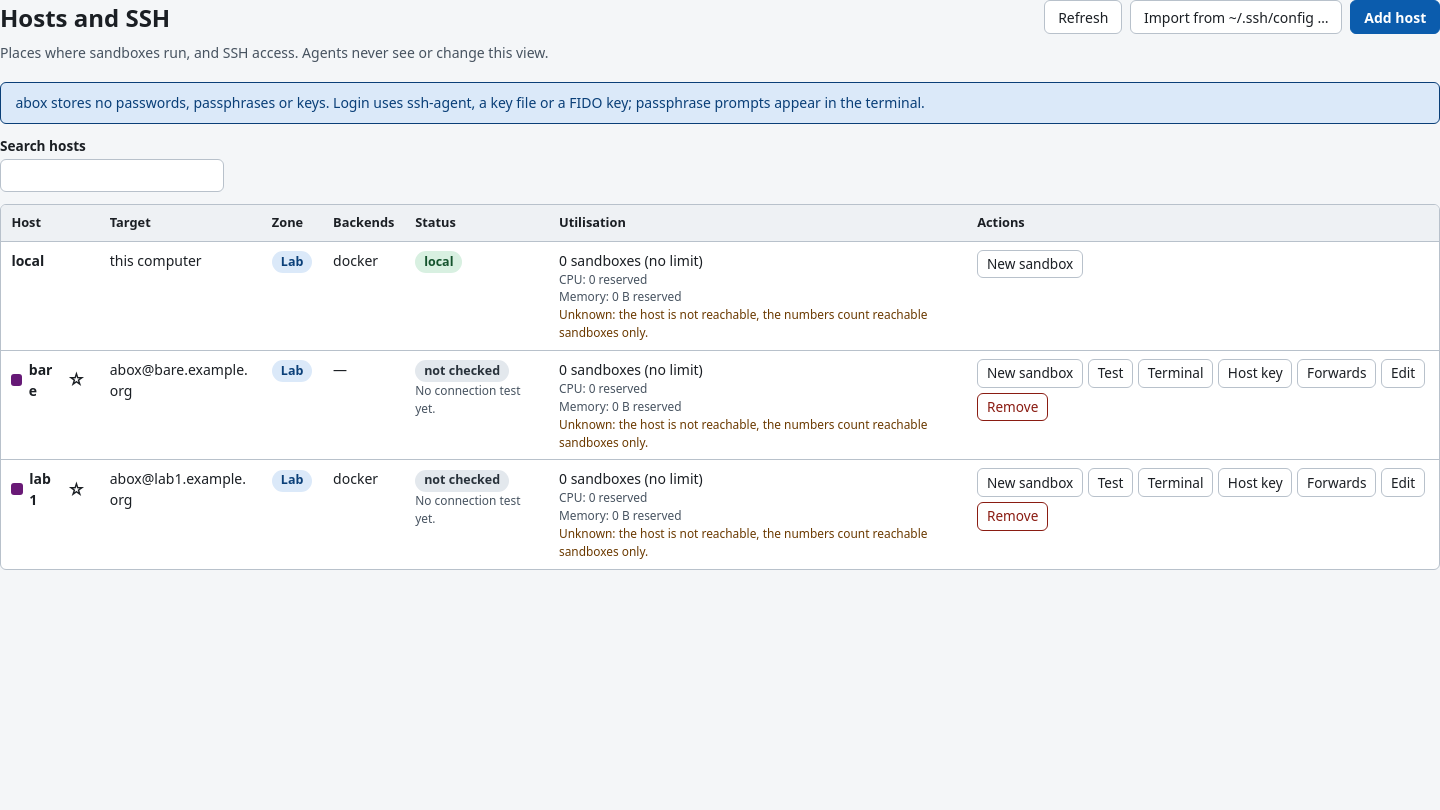
Scenario: Hosts view: new sandbox on a host › offers the action for every host and opens the wizard with that host preselected
Expected: the button "New sandbox" in the row of "this computer" is shown, [977,250,1083,278]
Click the button "New sandbox" in the row of "abox@lab1.example.org": [1030, 483] box [977,468,1083,497]
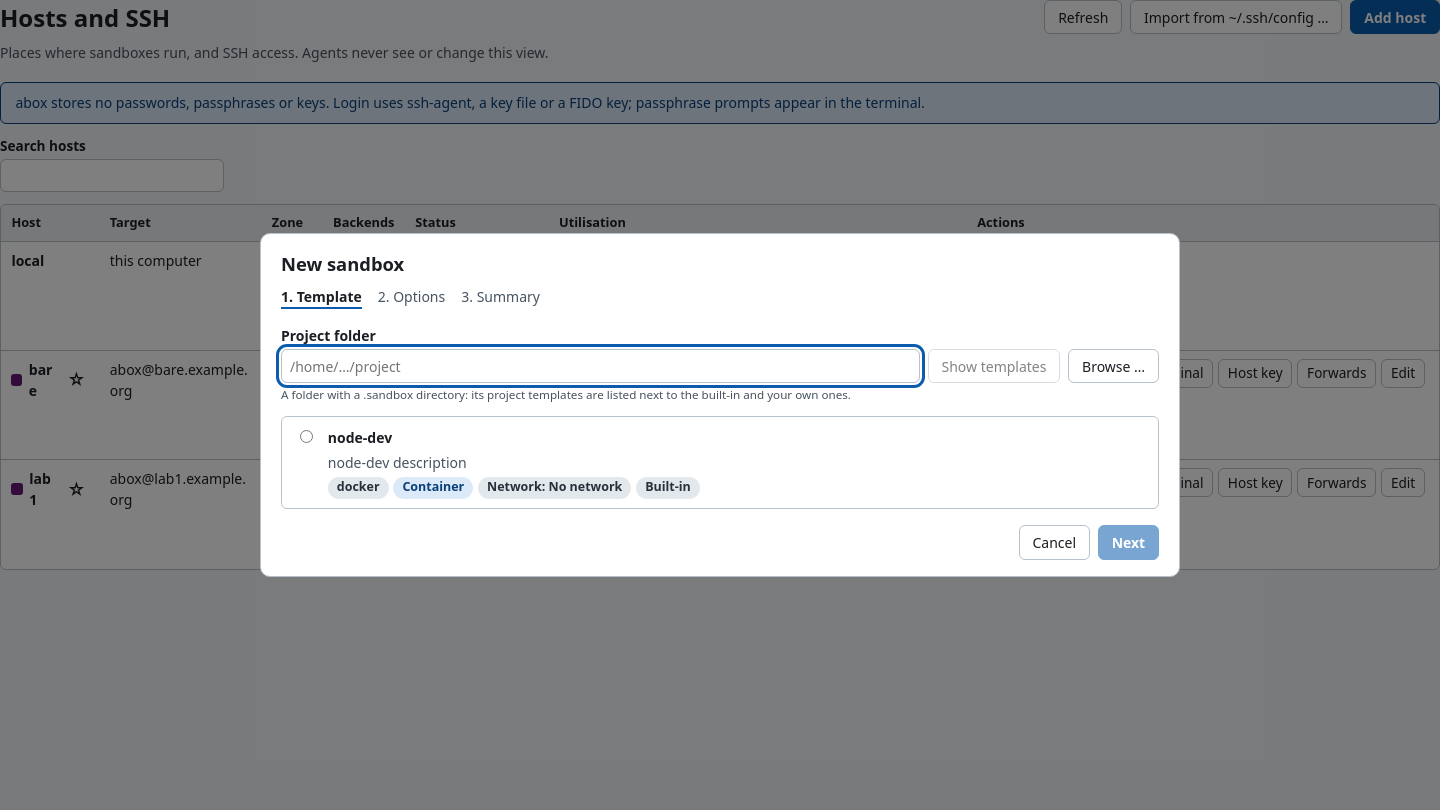
Result: the dialog "New sandbox" is shown at [260,233,1180,577]
Click the radio button labelled "node-dev": [306, 436] box [300,430,313,443]
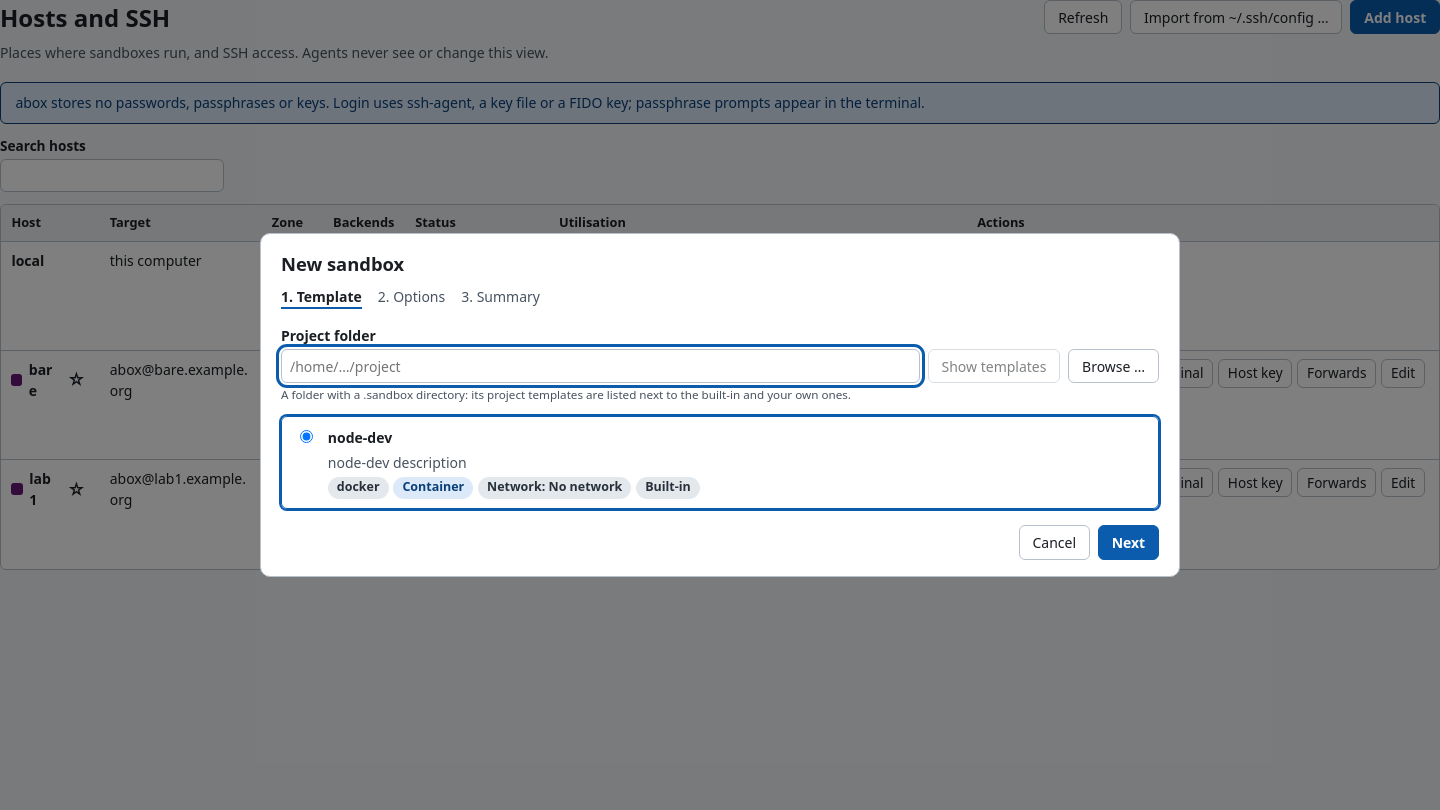
Click the button "Next": [1128, 543] box [1098,526,1159,560]
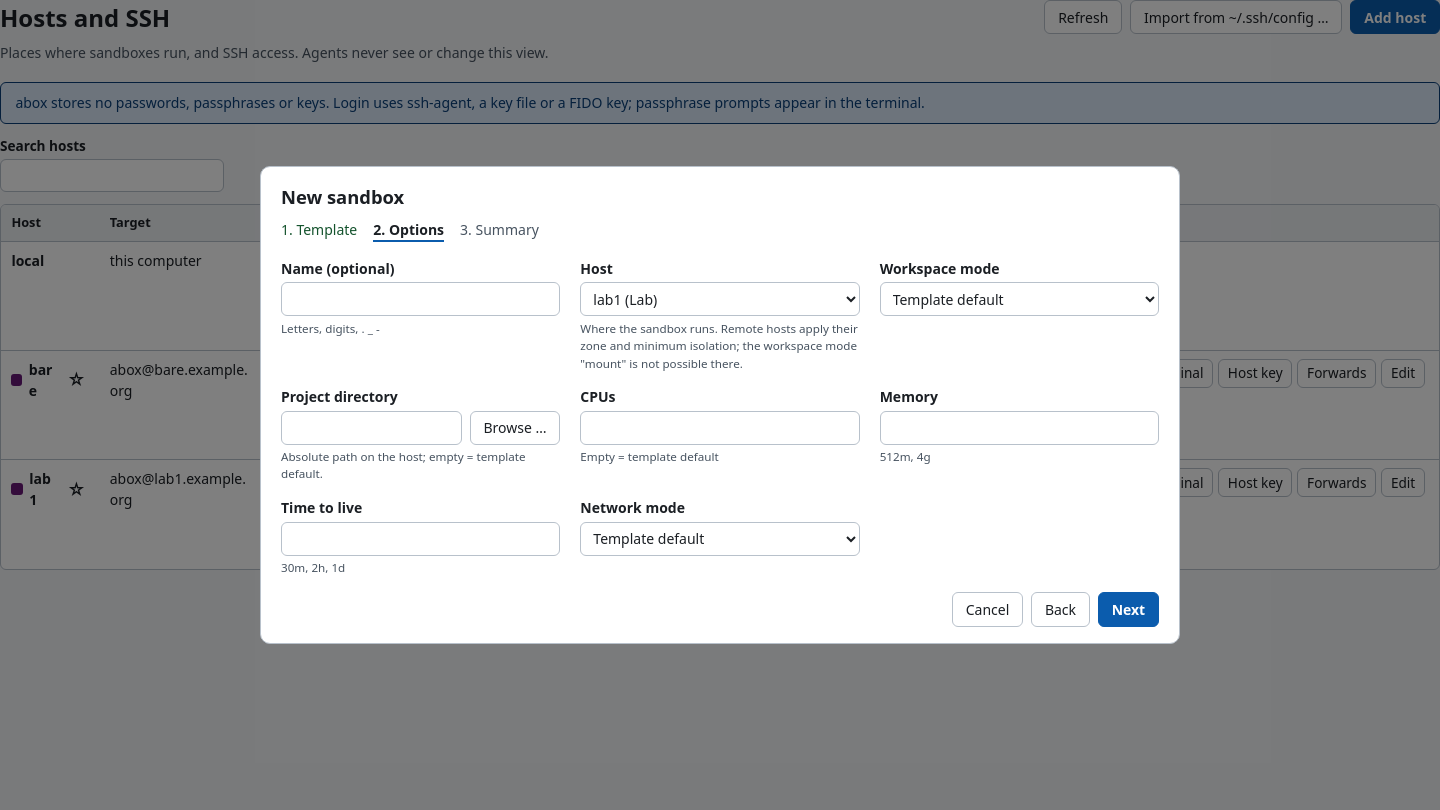
Result: the dropdown labelled "Host" shows "lab1 (Lab)" at [580,282,860,316]
Click the button "Next": [1128, 610] box [1098,592,1159,627]
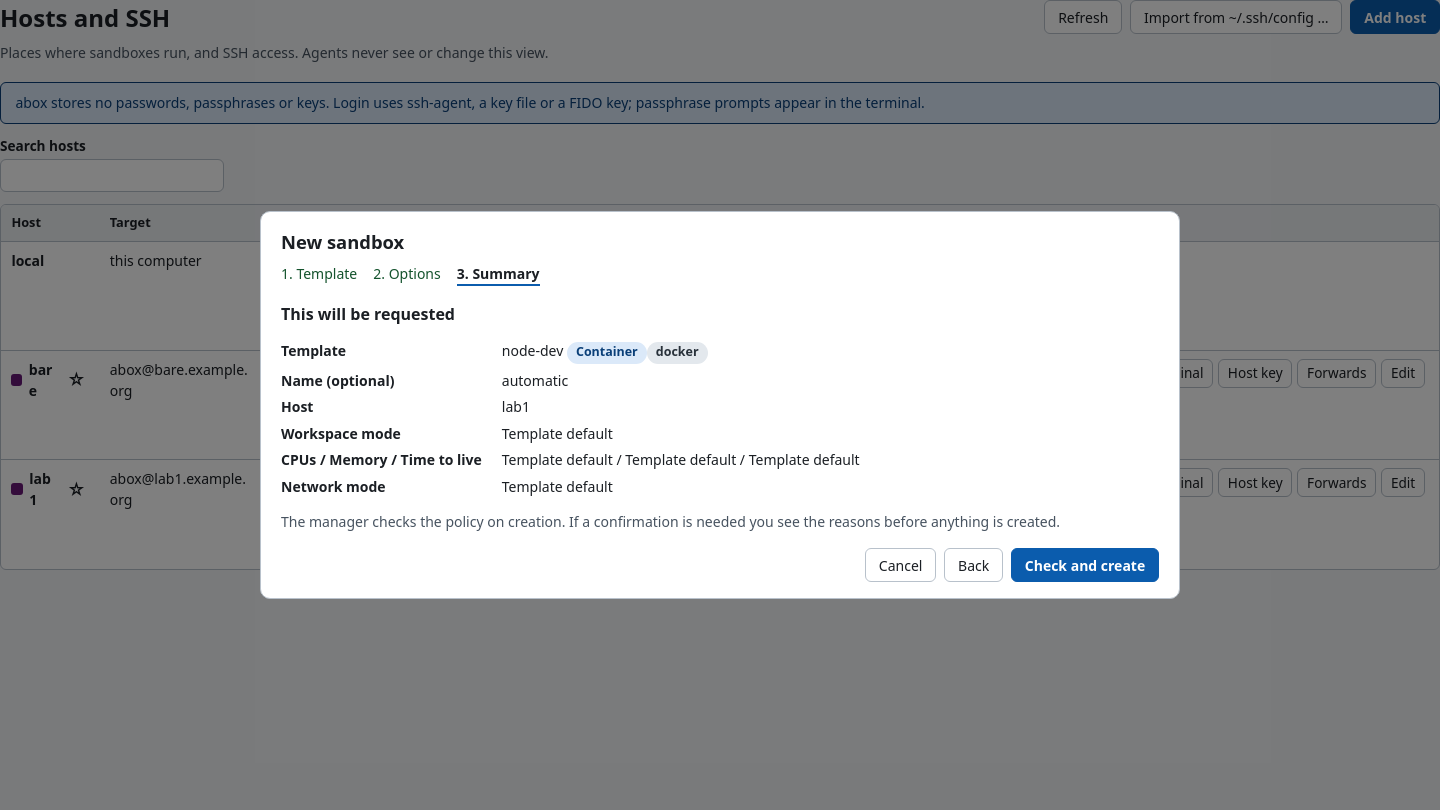
Click the button "Check and create": [1085, 565] box [1011,548,1159,582]
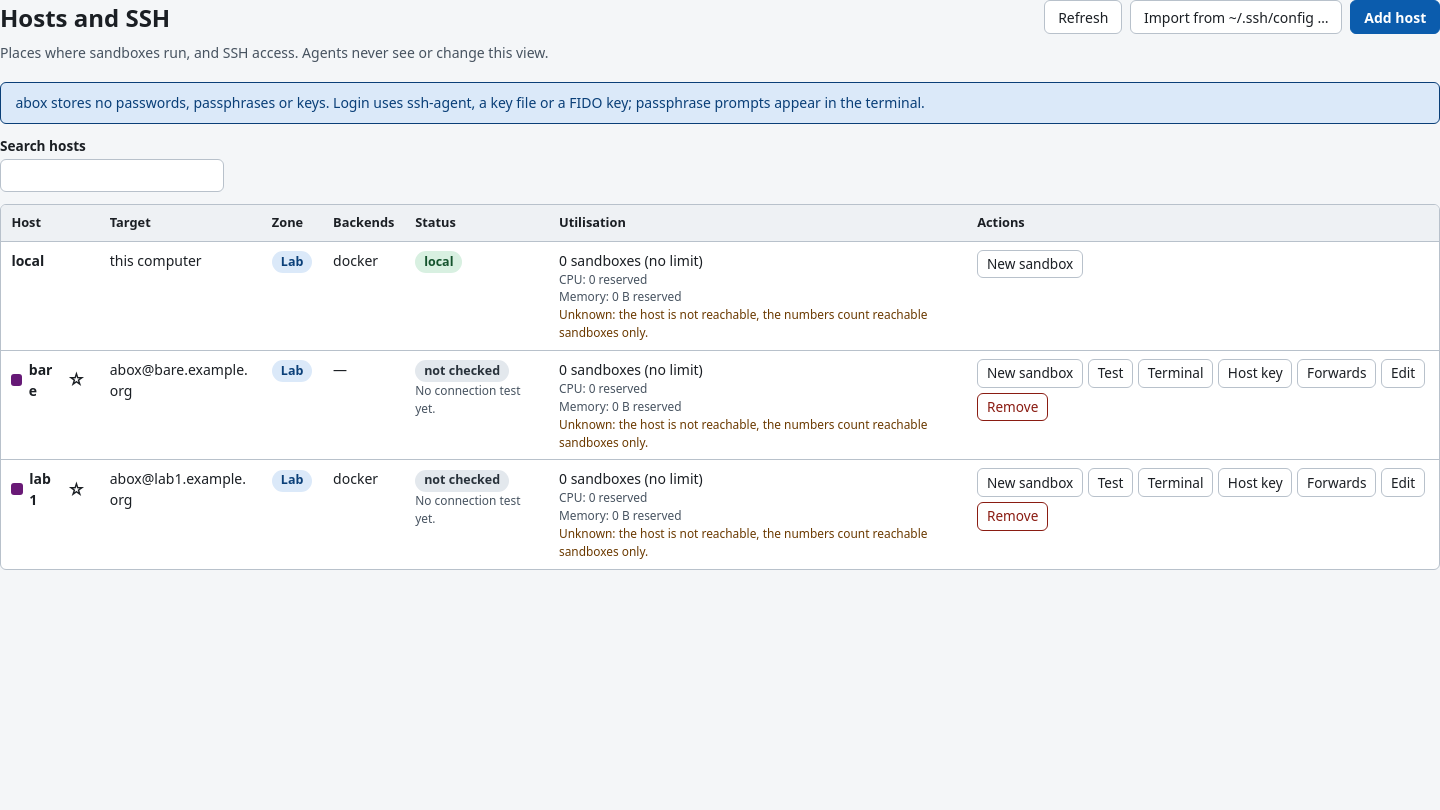
Result: the dialog is gone
